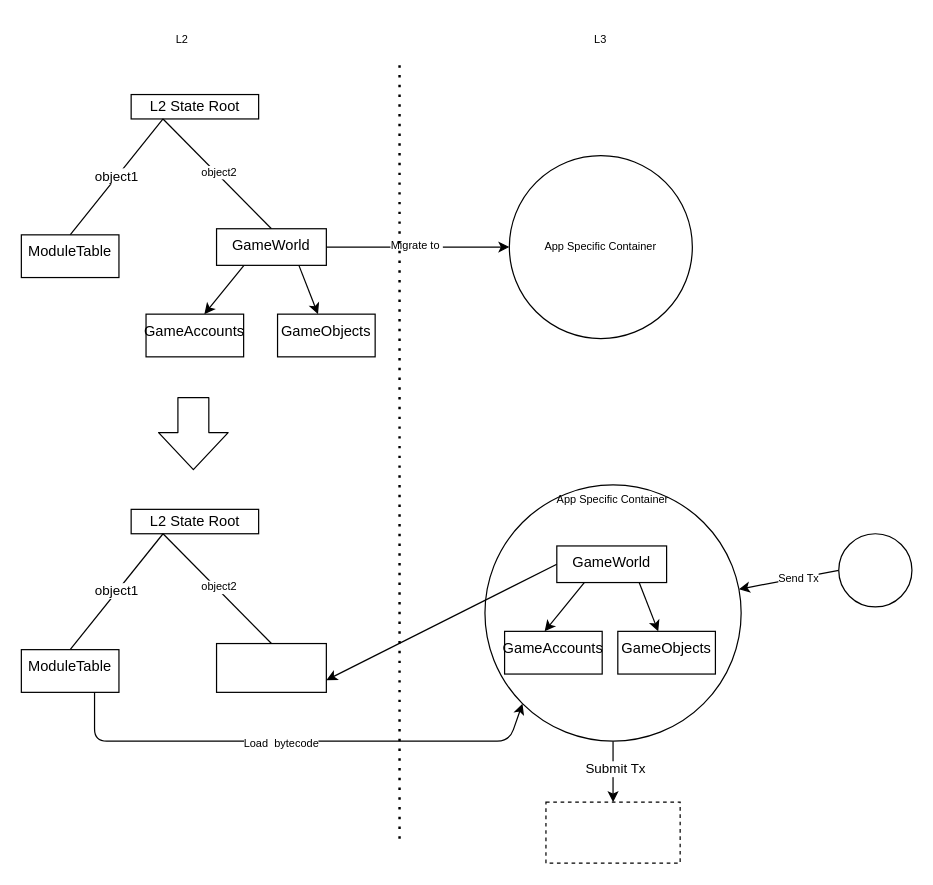
The diagram is 933 pixels wide and 885 high, and some of its shapes have lost their labels. Each missing label, with the box of its shape:
Client: (838, 533, 912, 607)
DA: (545, 801, 680, 863)
GameWorld (StateRoot): (215, 642, 326, 692)
